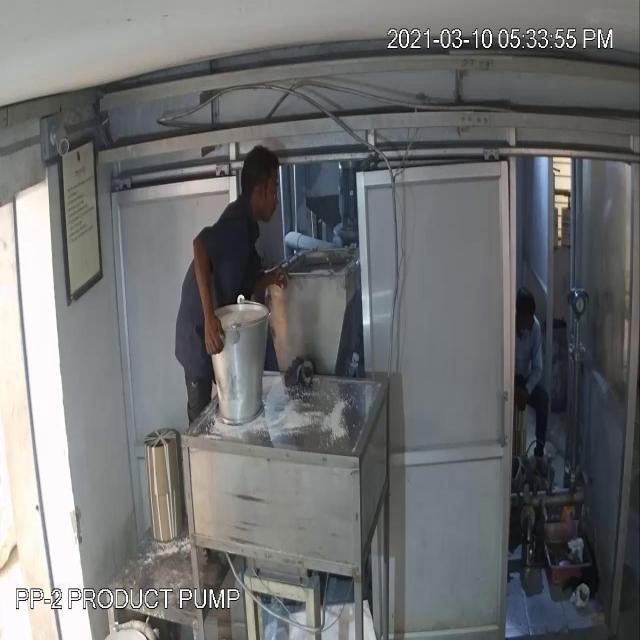No_Gloves: (192, 235, 228, 374)
